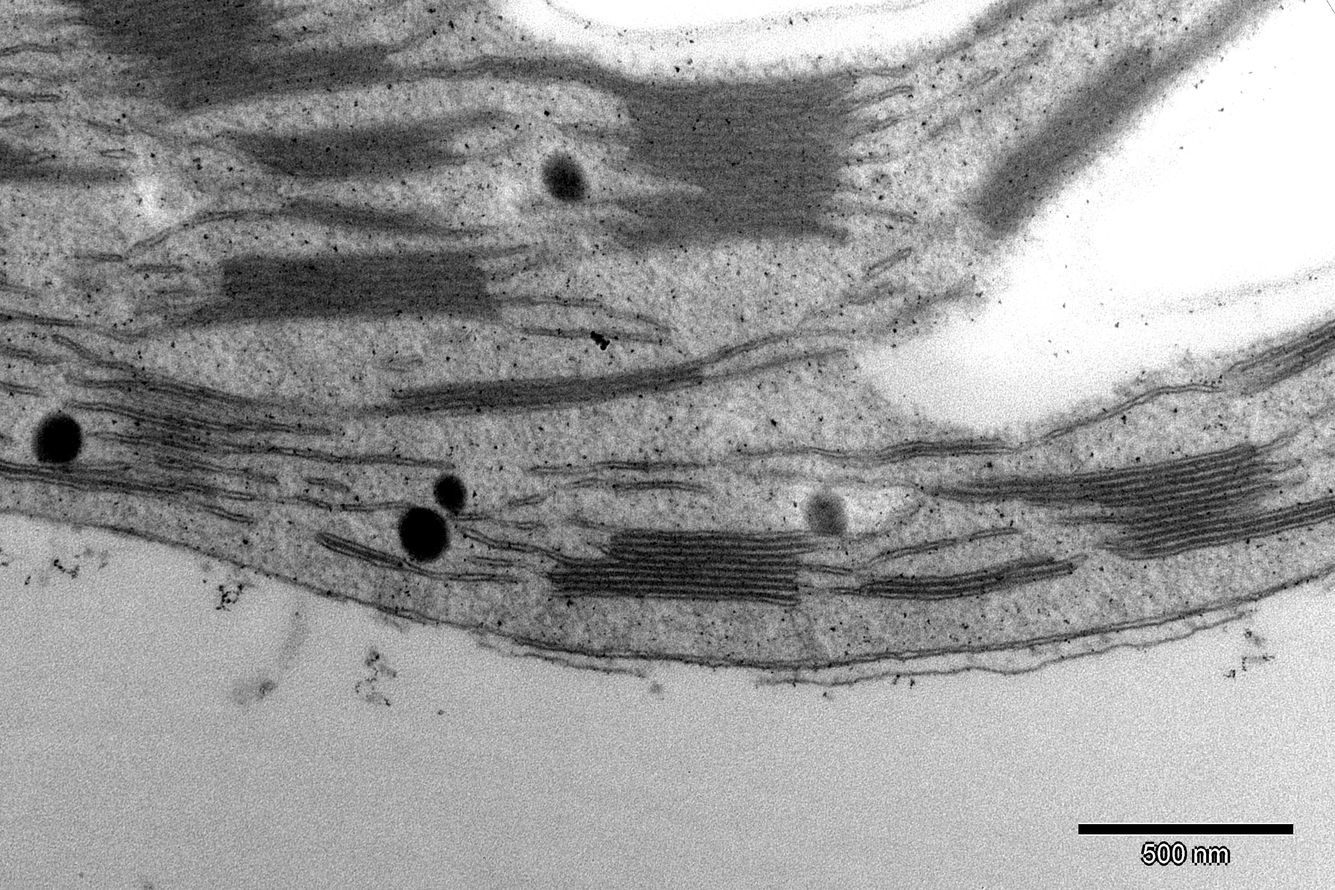granum: (608, 57, 864, 259), (948, 438, 1335, 564), (969, 40, 1193, 241), (72, 0, 392, 122), (219, 249, 508, 331), (548, 522, 818, 609), (388, 354, 708, 422), (243, 115, 445, 185), (863, 548, 1077, 602), (1228, 316, 1335, 401), (31, 457, 136, 495), (0, 136, 40, 185)
